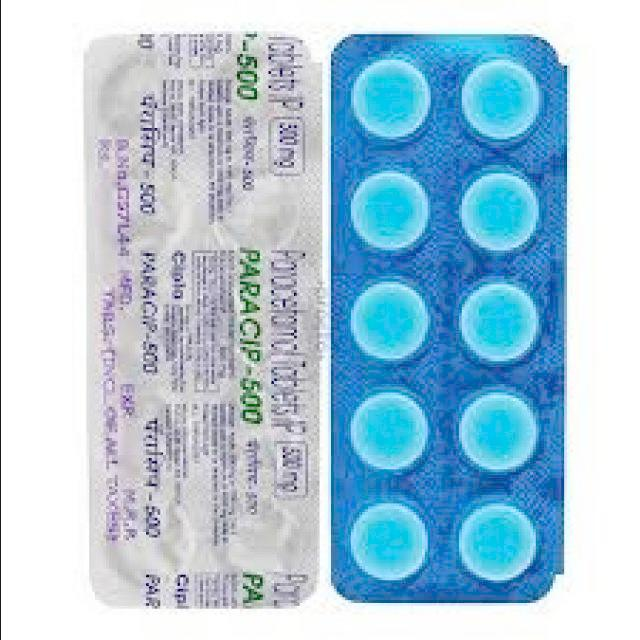authentic: (318, 22, 582, 616), (75, 22, 323, 616)
